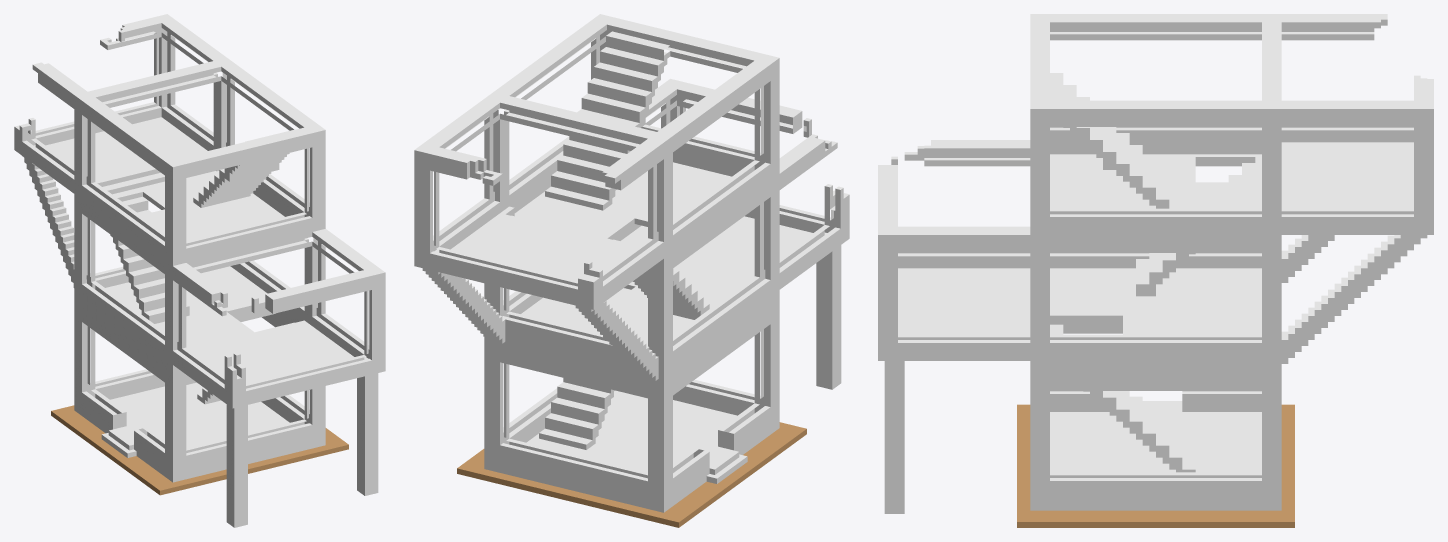
Rendered from basic_building_3.FBX.
3 renders of one model, left to right at view 1: azimuth 30°, elevation 25°; view 2: azimuth 150°, elevation 25°; view 3: azimuth 270°, elevation 25°, orthographic. The views are drawn at different scales.
Parts seen in each view (by area): view 1: default; view 2: default; view 3: default.
Boxes of the visible parts, x1,y1,x2,y2 form: default: (14, 14, 385, 527); default: (414, 14, 849, 527); default: (878, 14, 1433, 527).
Size of the model in its own units: 42 by 68 by 84.
